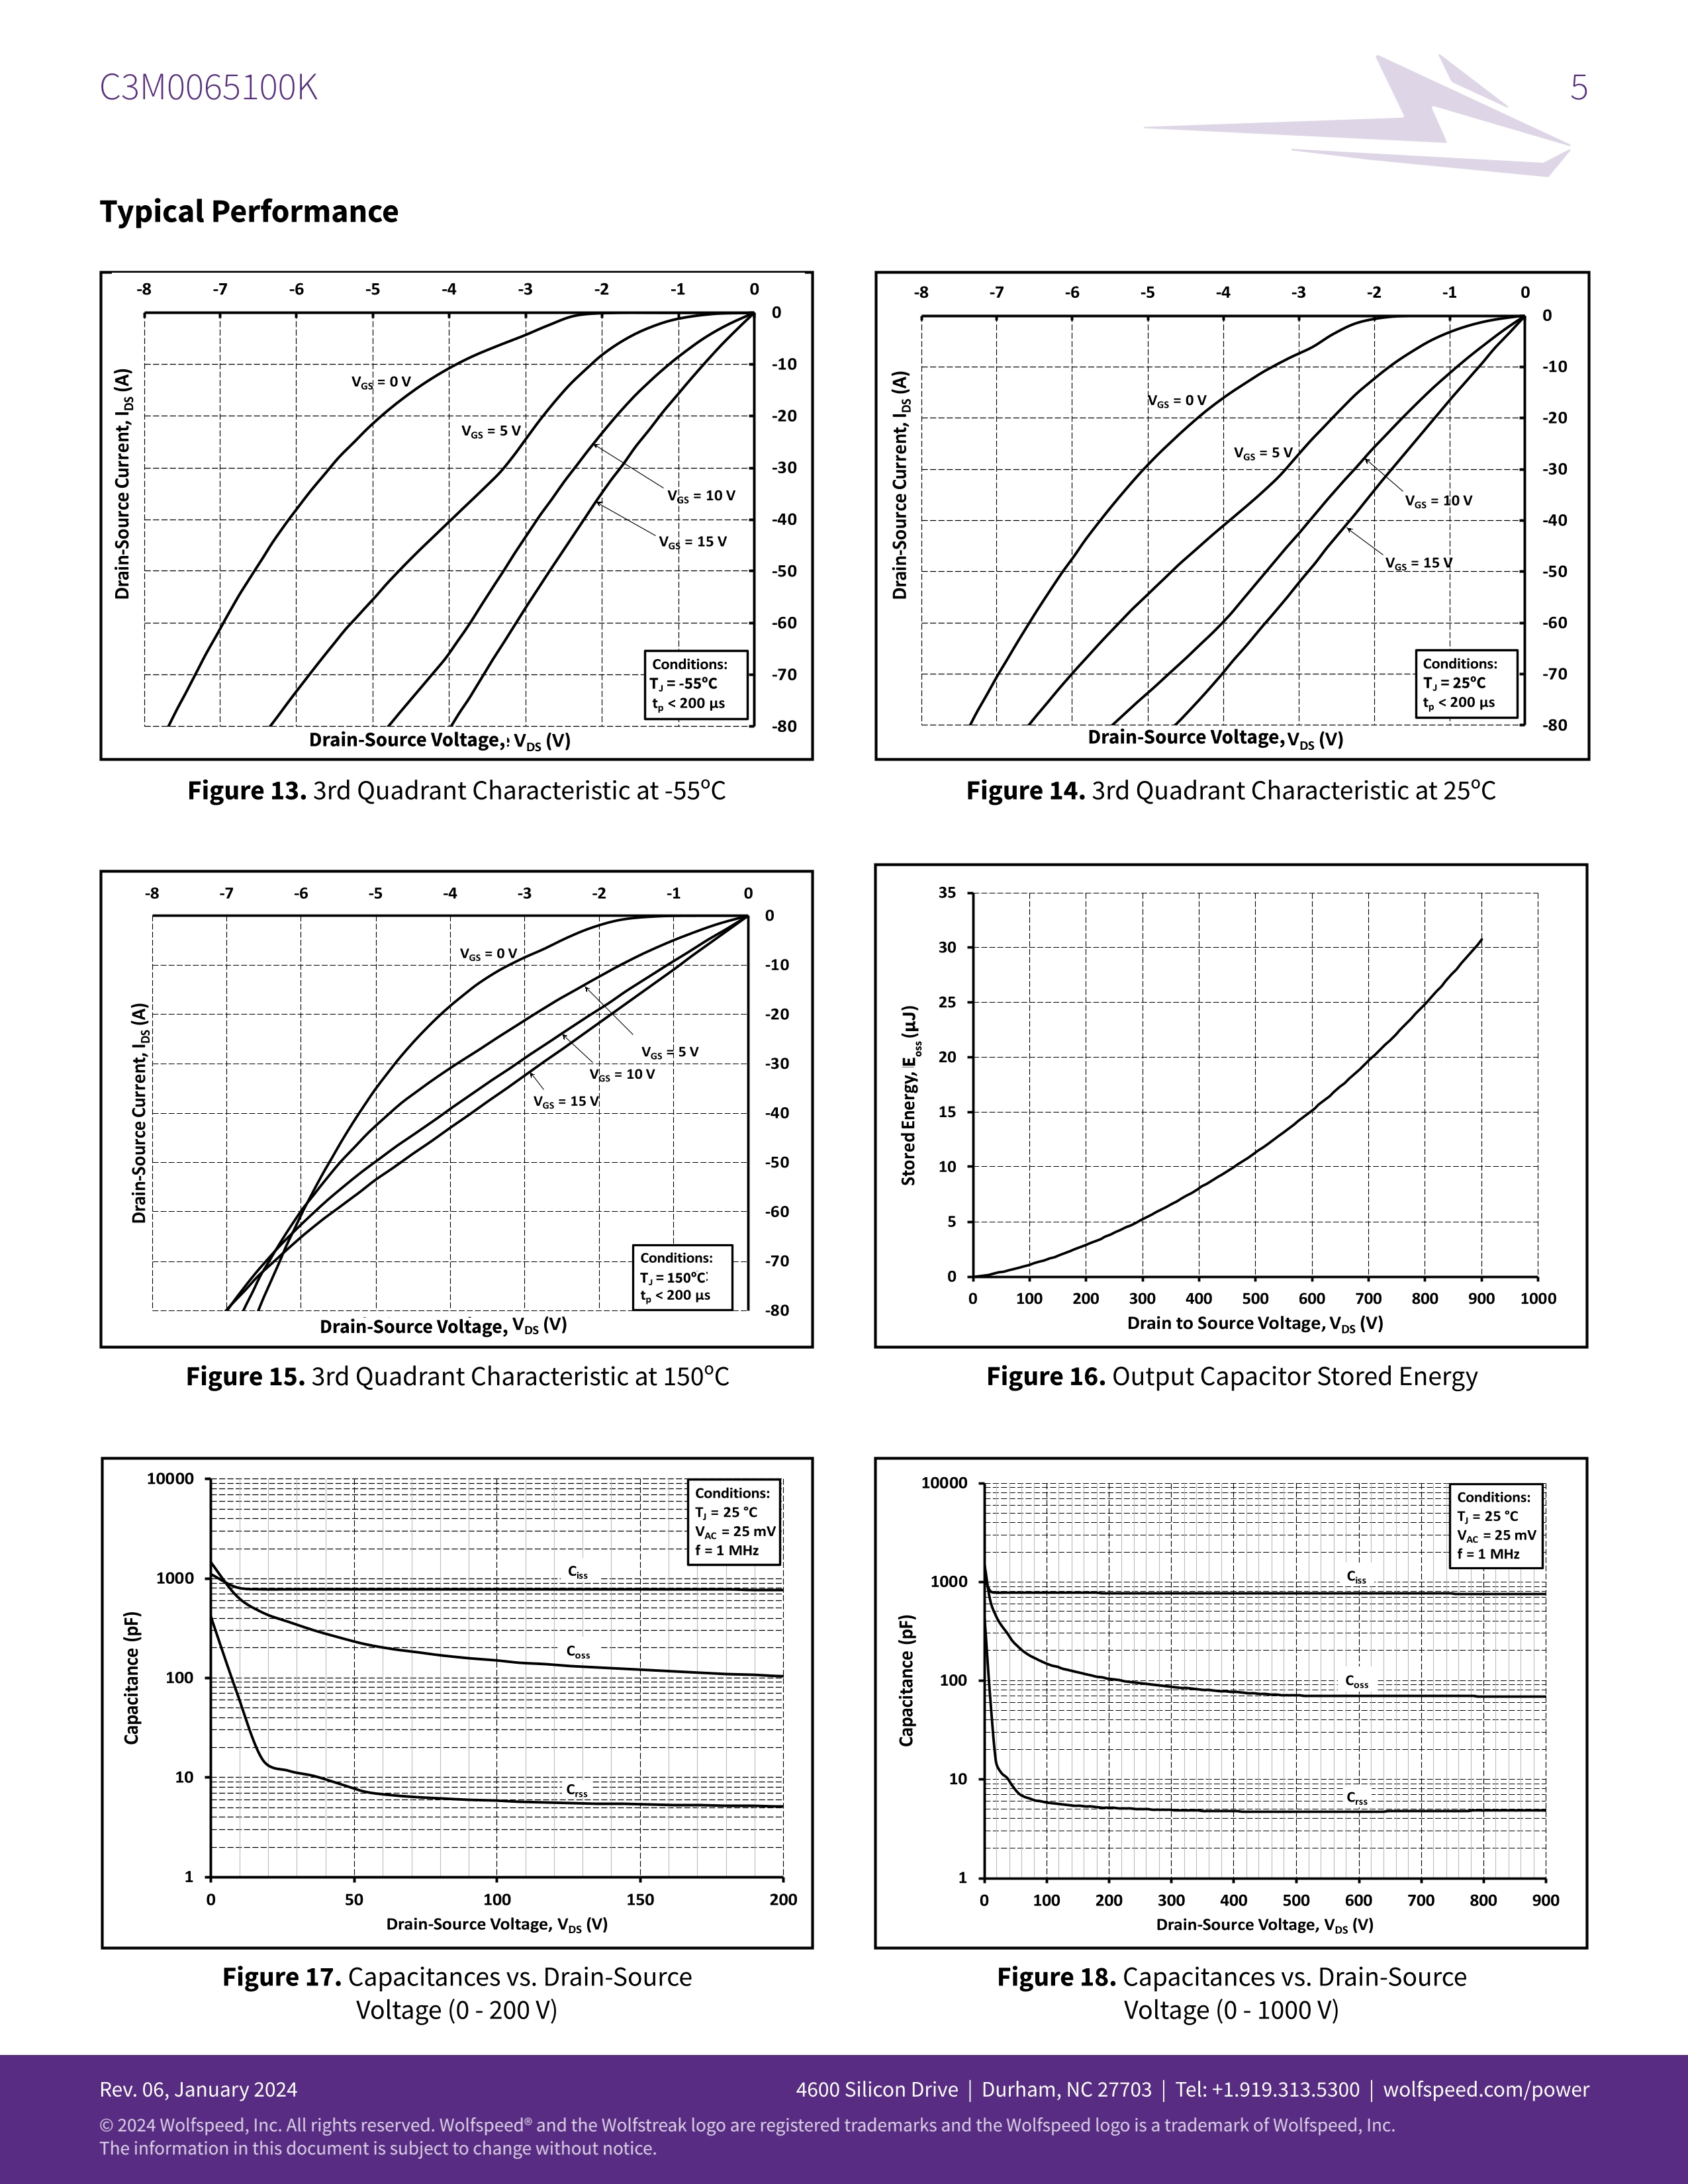diagram: (856, 1441, 1608, 2035), (85, 1448, 828, 2048), (80, 255, 823, 828), (82, 856, 832, 1413), (862, 261, 1601, 824), (865, 847, 1592, 1409)
